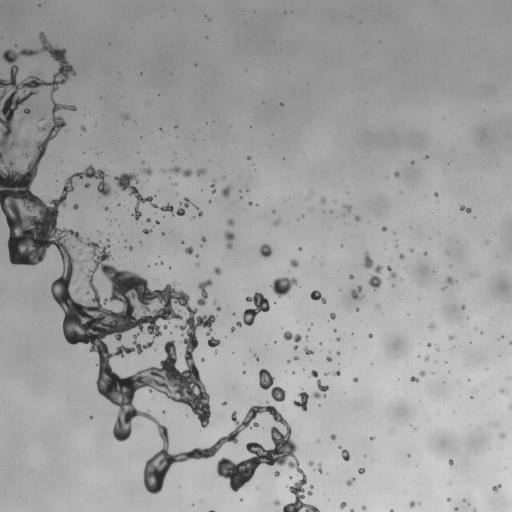droplet: (293, 370, 328, 411), (235, 292, 269, 327), (271, 277, 297, 298), (283, 331, 301, 350), (310, 290, 326, 303), (224, 231, 235, 249), (259, 243, 272, 258), (362, 251, 373, 268), (351, 285, 362, 299), (207, 337, 220, 348), (221, 186, 231, 197), (140, 167, 152, 176), (445, 276, 456, 284), (303, 346, 314, 354), (196, 168, 205, 176), (492, 484, 501, 492), (121, 112, 129, 120), (343, 204, 351, 212), (185, 246, 193, 254), (290, 259, 298, 267), (346, 478, 355, 485), (227, 218, 234, 226), (213, 267, 221, 274), (410, 376, 419, 382), (428, 322, 435, 329), (409, 500, 416, 507), (273, 219, 280, 225), (419, 370, 425, 377), (498, 432, 505, 438), (358, 468, 365, 474), (340, 501, 346, 508), (80, 125, 86, 131), (320, 197, 326, 203), (330, 434, 336, 440), (448, 335, 455, 340), (399, 253, 404, 259), (330, 313, 335, 319), (326, 356, 331, 362), (274, 500, 280, 505), (73, 204, 78, 209), (355, 216, 360, 221), (381, 226, 386, 231), (216, 306, 221, 311), (424, 356, 429, 361), (500, 388, 505, 393), (274, 471, 279, 476), (84, 183, 90, 187), (449, 459, 453, 465), (394, 172, 399, 176), (201, 237, 206, 241), (349, 274, 353, 279), (353, 377, 357, 382), (362, 505, 366, 510), (410, 160, 414, 164), (434, 192, 438, 196), (248, 201, 252, 205), (146, 218, 150, 222), (155, 220, 159, 224), (128, 246, 132, 250), (423, 251, 427, 255), (75, 288, 79, 292), (461, 305, 465, 309), (368, 333, 372, 337), (336, 337, 340, 341), (427, 342, 431, 346), (336, 351, 340, 355), (294, 356, 298, 360), (242, 370, 246, 374), (222, 401, 226, 405), (370, 436, 374, 440), (454, 507, 458, 511), (231, 327, 234, 332), (471, 508, 476, 511), (424, 155, 428, 158), (104, 207, 108, 210), (409, 249, 413, 252), (196, 262, 199, 266), (441, 287, 445, 290), (213, 300, 216, 304), (377, 304, 380, 308), (305, 335, 308, 339), (499, 335, 503, 338), (200, 358, 204, 361), (446, 498, 450, 501), (349, 509, 354, 511), (247, 156, 250, 159), (161, 169, 164, 172), (222, 175, 225, 178), (298, 247, 301, 250), (160, 261, 163, 264), (356, 308, 359, 311), (214, 350, 217, 353), (509, 341, 511, 345), (495, 422, 497, 426), (389, 509, 393, 511), (280, 103, 283, 105), (141, 161, 144, 163), (162, 232, 164, 235), (181, 241, 184, 243), (86, 292, 89, 294), (333, 329, 336, 331), (319, 342, 322, 344), (436, 348, 439, 350), (470, 396, 473, 398), (162, 411, 165, 413), (175, 126, 177, 128), (160, 128, 162, 130), (209, 200, 211, 202), (302, 215, 304, 217), (307, 328, 309, 330), (181, 334, 183, 336), (287, 360, 289, 362), (292, 372, 294, 374), (90, 416, 92, 418), (317, 440, 319, 442)
ligament: (5, 32, 319, 511), (114, 172, 202, 220), (258, 368, 285, 402), (196, 279, 212, 306), (368, 265, 382, 290), (167, 165, 192, 177), (308, 461, 322, 473), (338, 446, 349, 461), (387, 266, 396, 278), (324, 370, 340, 376), (460, 205, 471, 212), (142, 228, 153, 234), (211, 179, 215, 193), (253, 354, 259, 360), (39, 112, 43, 120), (510, 404, 511, 409), (209, 510, 214, 511)
